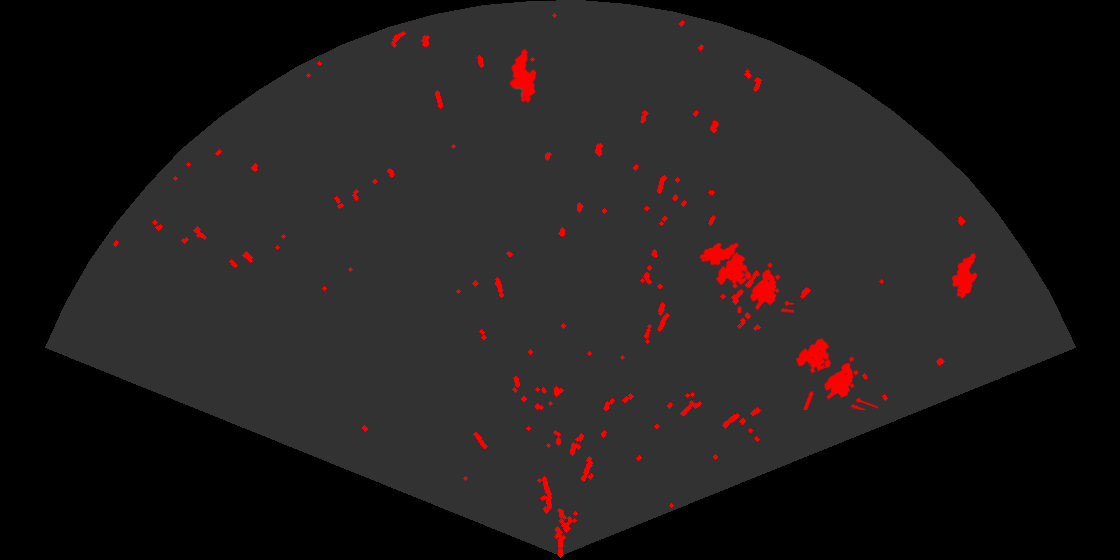AUV: (508, 47, 538, 105), (950, 252, 979, 300), (698, 241, 741, 267)
cage: (794, 337, 878, 410), (714, 251, 794, 313)
